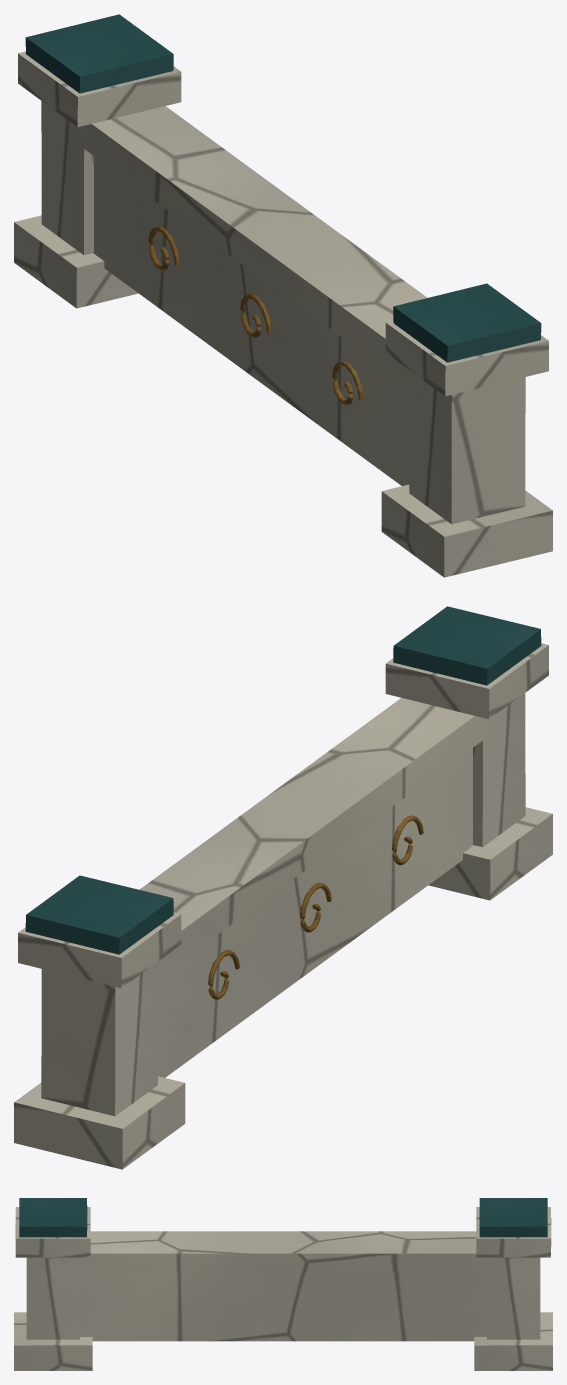
The model's file is t06_rail_straight_lod1.fbx.
3 renders of one model, top to bottom at view 1: azimuth 30°, elevation 25°; view 2: azimuth 150°, elevation 25°; view 3: azimuth 270°, elevation 25°, orthographic. The views are drawn at different scales.
Visible parts, largest first — view 1: t06_rail_straight.005; view 2: t06_rail_straight.005; view 3: t06_rail_straight.005.
Boxes of the visible parts, box(x1,y1,x2,y2) form: t06_rail_straight.005: box(14, 14, 552, 577); t06_rail_straight.005: box(14, 606, 552, 1169); t06_rail_straight.005: box(14, 1198, 552, 1370).
Bounding box in the file's own units: 29970 × 4372 × 8720.
